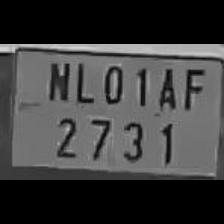0: (97, 58, 127, 106)
1: (152, 115, 178, 163), (127, 61, 151, 107)
2: (48, 111, 80, 160)
3: (116, 114, 146, 162)
7: (82, 112, 112, 160)
A: (152, 62, 178, 112)
F: (178, 61, 205, 115)
L: (71, 56, 95, 104)
N: (43, 54, 73, 104)
